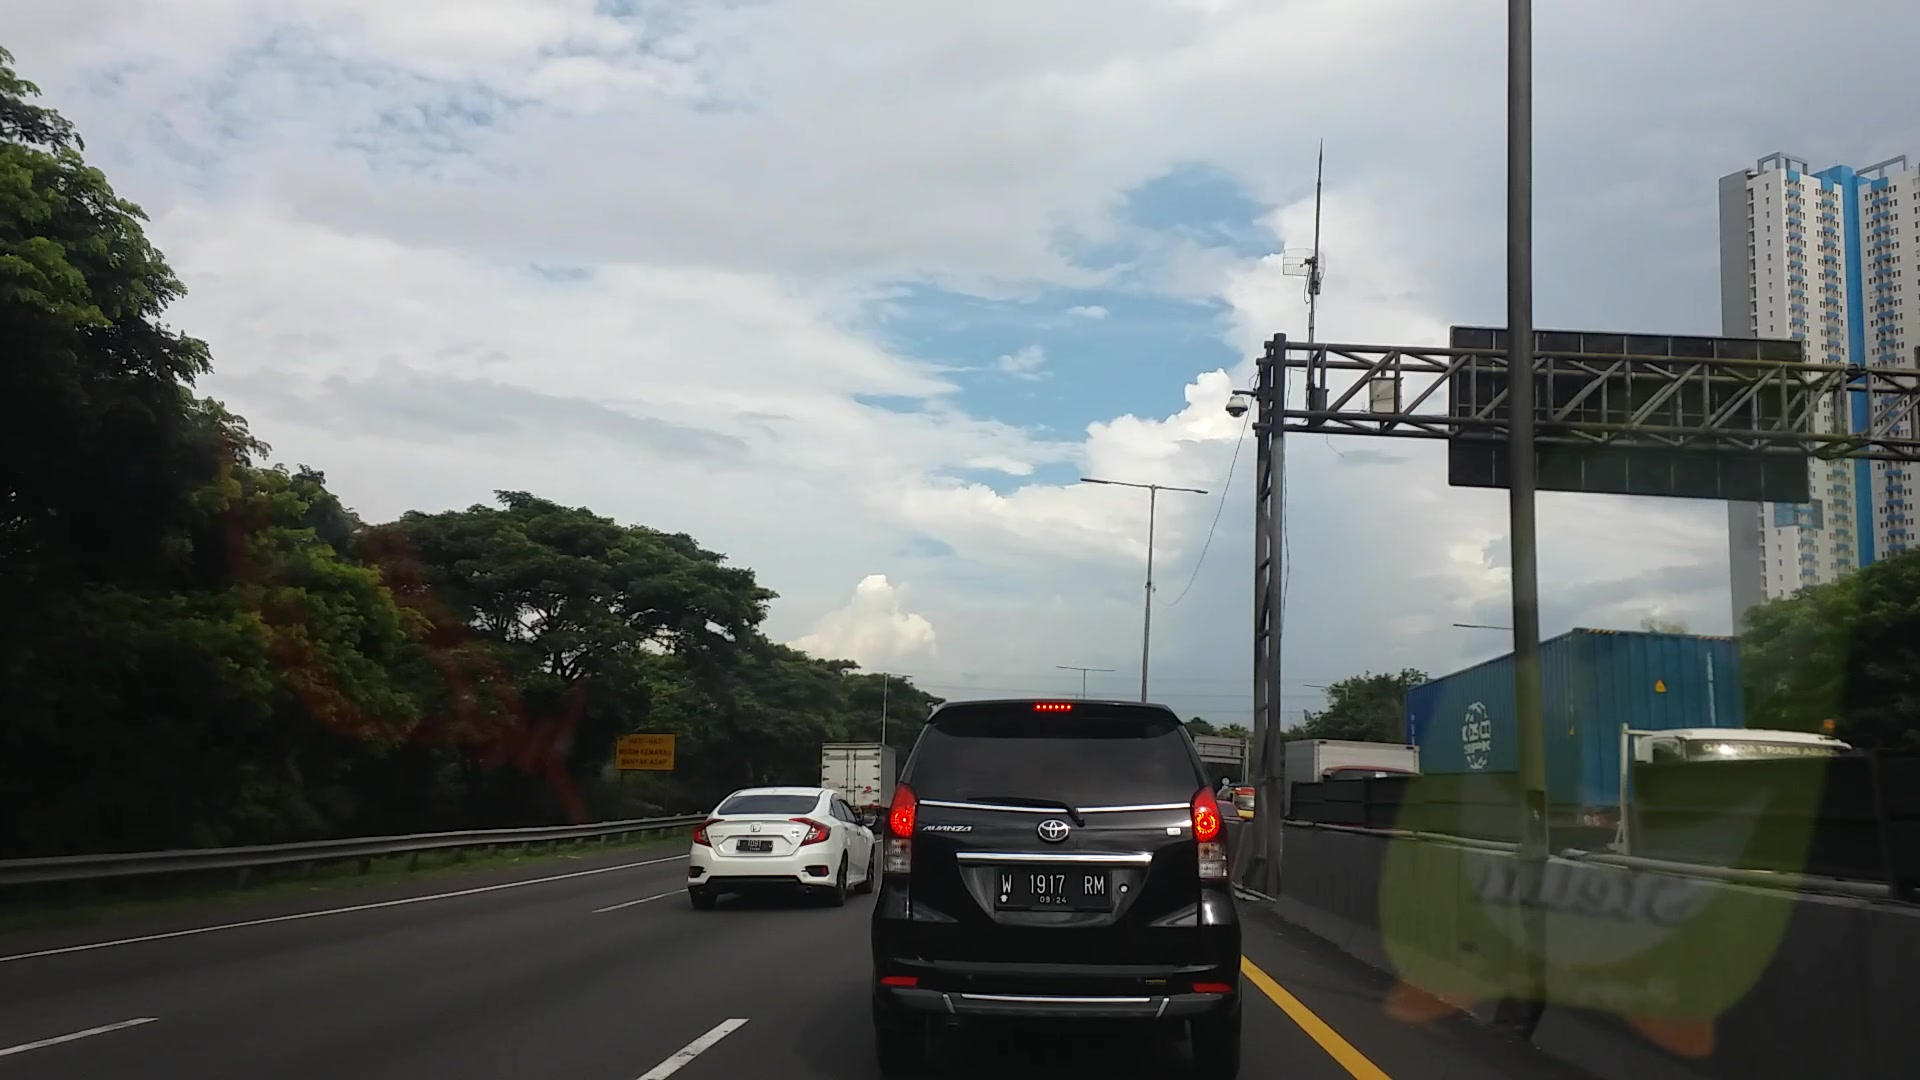plate_positive: (996, 862, 1112, 913)
